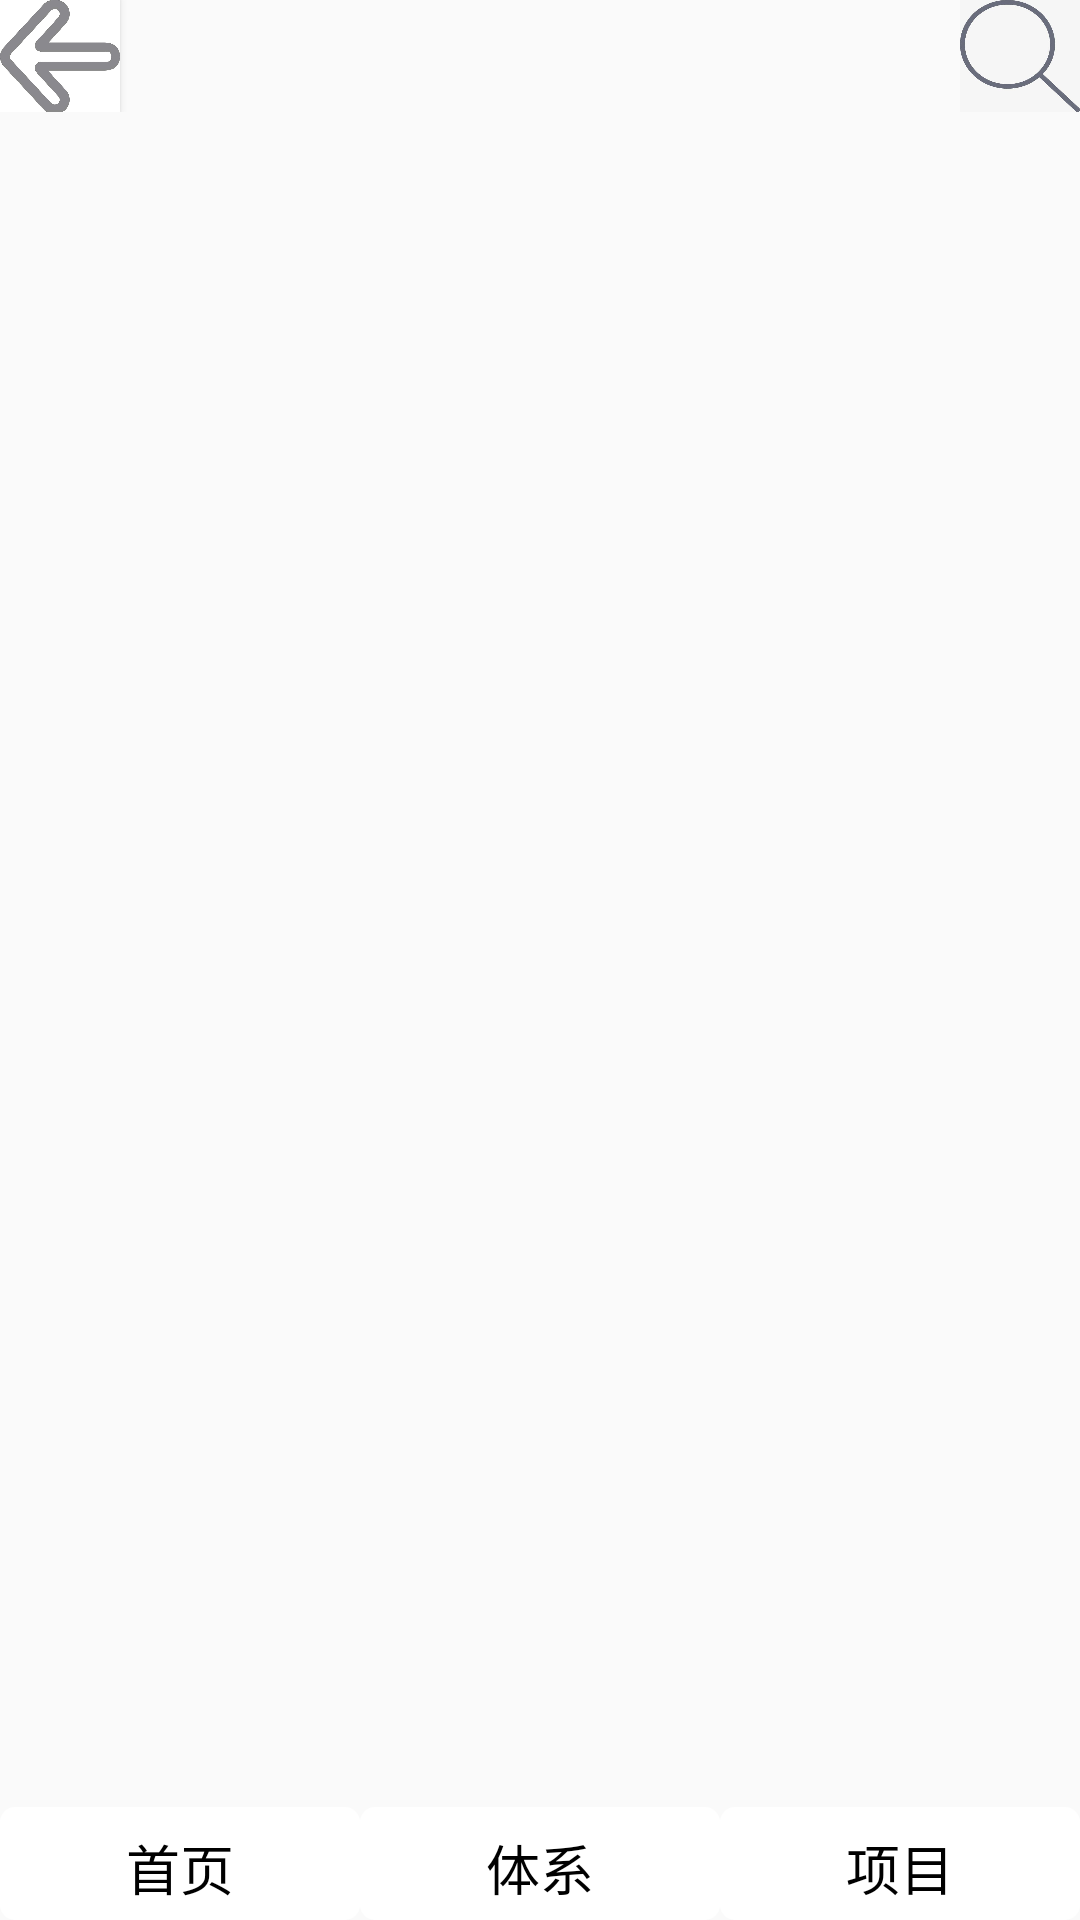

Point at icon controls on the screen. Image size 1080*1920, points as (x=x, y=y).
arrow: (x=60, y=56)
search: (x=1020, y=56)
